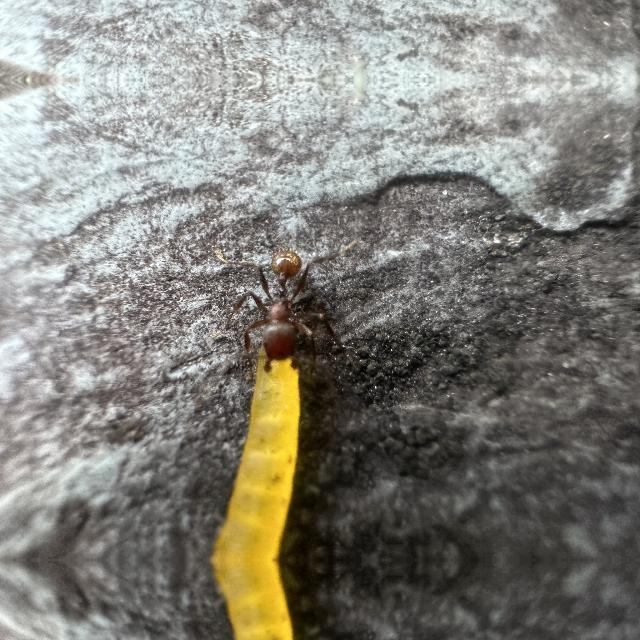Apheanogaster: (201, 226, 355, 380)
